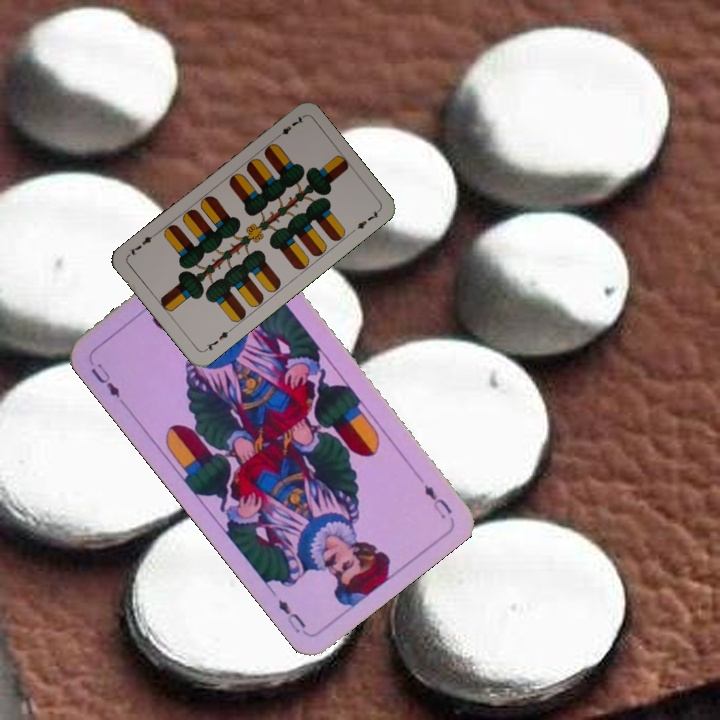E7: (272, 112, 306, 142), (200, 325, 235, 354)
EU: (86, 359, 123, 401), (419, 480, 455, 522)
